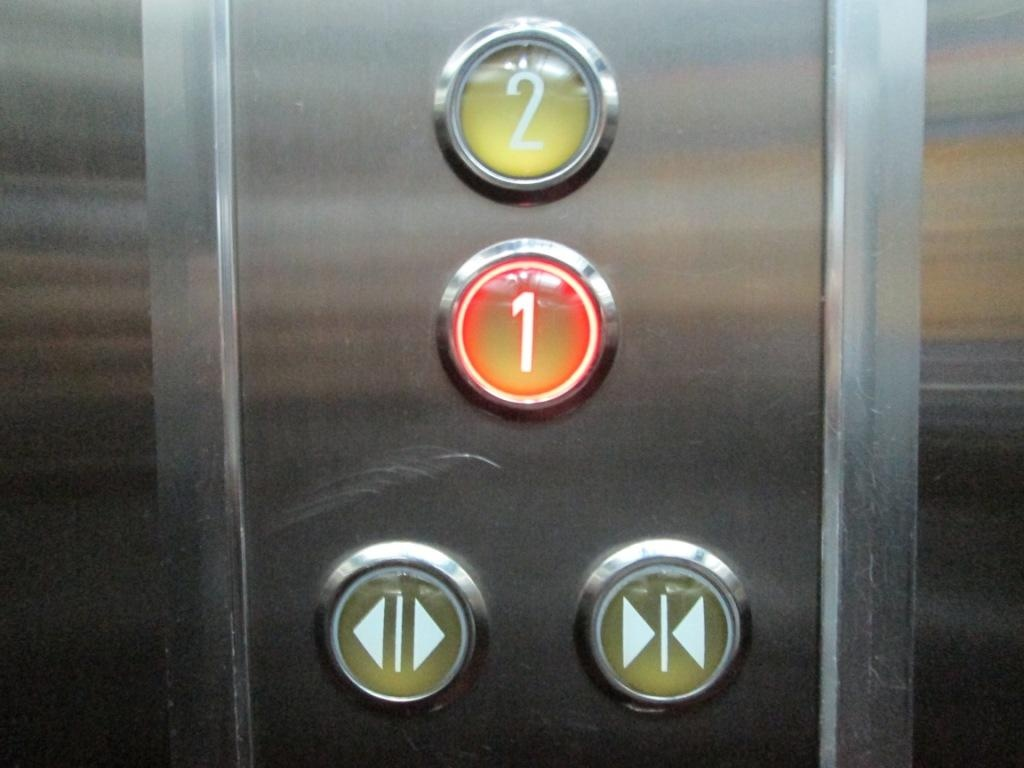1: (431, 232, 624, 426)
2: (427, 9, 624, 208)
close: (567, 532, 757, 721)
open: (308, 535, 493, 722)
